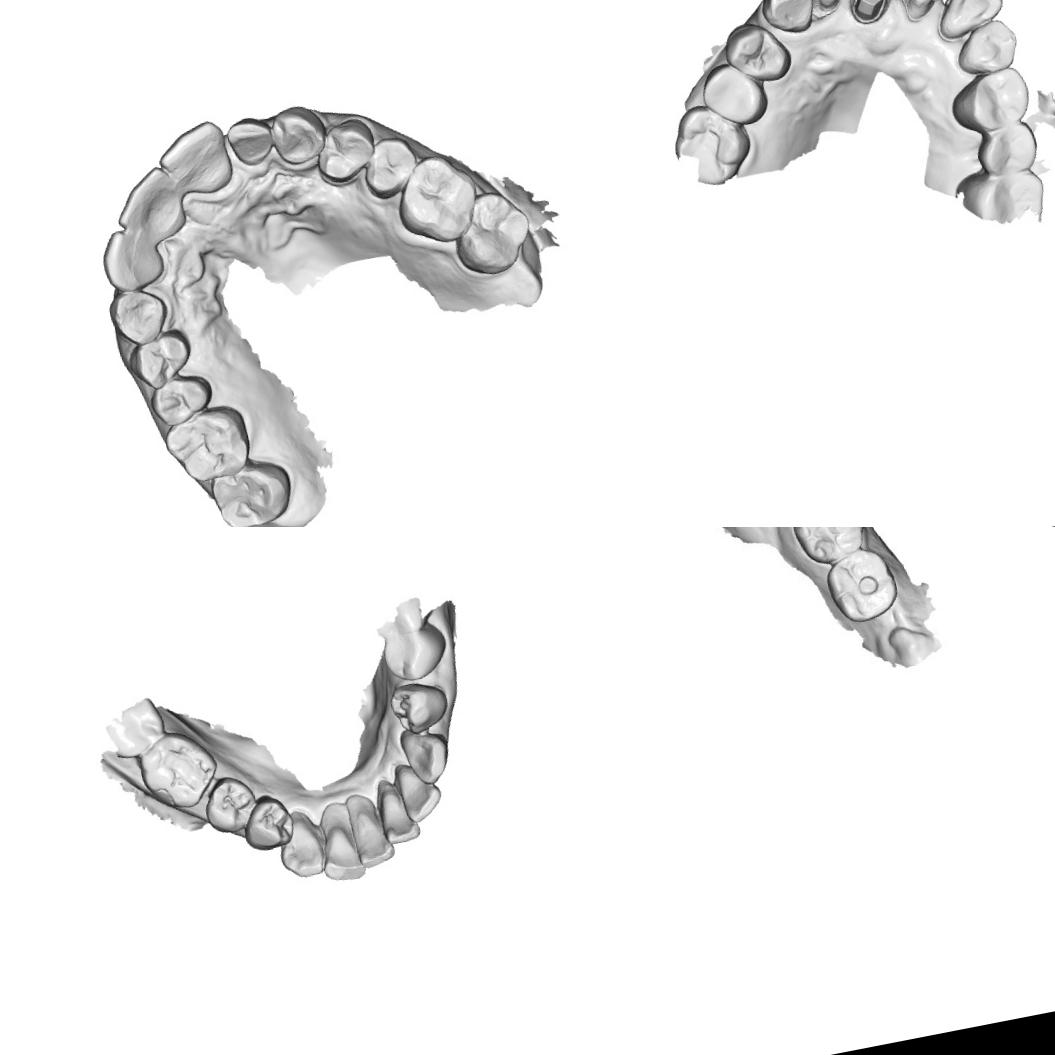canine: (104, 280, 177, 352), (949, 14, 1022, 78), (272, 805, 330, 882), (266, 102, 331, 170), (396, 721, 454, 788), (755, 0, 819, 39)
implant: (844, 0, 894, 33)
incisor: (108, 162, 193, 249), (151, 115, 235, 193), (94, 222, 168, 294), (926, 0, 1009, 45), (314, 816, 368, 885), (372, 774, 422, 848), (392, 756, 446, 824), (219, 112, 278, 170), (348, 804, 398, 871), (883, 0, 976, 24), (787, 0, 861, 19)
molar: (388, 148, 484, 250), (668, 95, 760, 192), (447, 182, 538, 280), (157, 403, 255, 492), (132, 723, 224, 816), (204, 457, 296, 527), (823, 548, 901, 630), (791, 527, 872, 567)
premolar: (944, 62, 1036, 137), (695, 54, 772, 132), (718, 14, 796, 90), (123, 324, 199, 395), (307, 114, 380, 186), (378, 620, 452, 685), (356, 131, 422, 201), (970, 118, 1042, 179), (198, 769, 262, 836), (386, 676, 452, 738), (142, 370, 214, 426), (236, 790, 299, 854)
